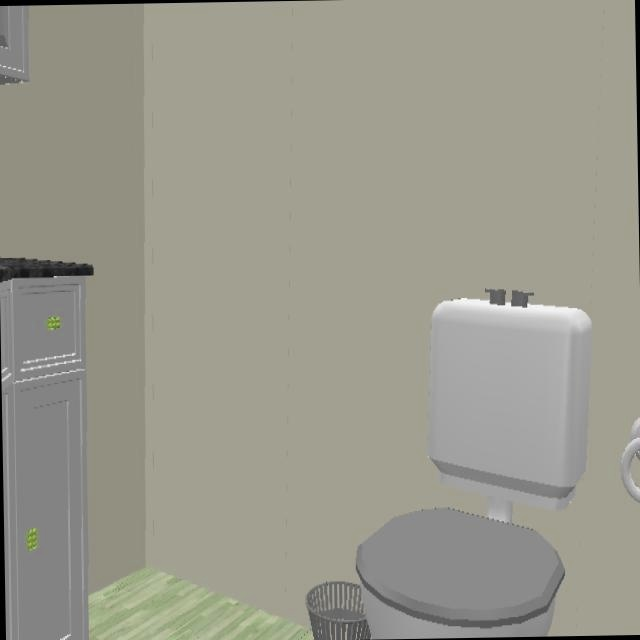cabinet: (0, 259, 92, 640)
toilet: (356, 290, 591, 637)
